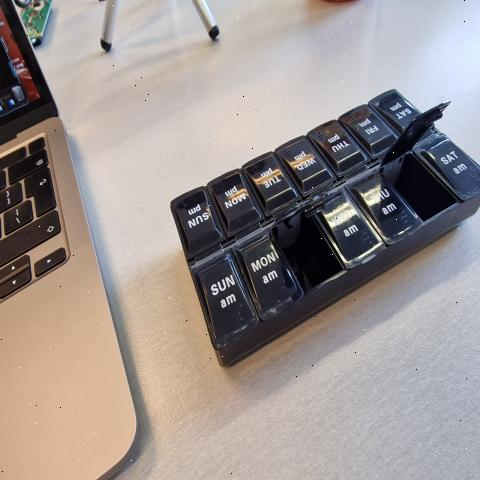Open: (380, 98, 459, 225), (272, 196, 345, 294)
